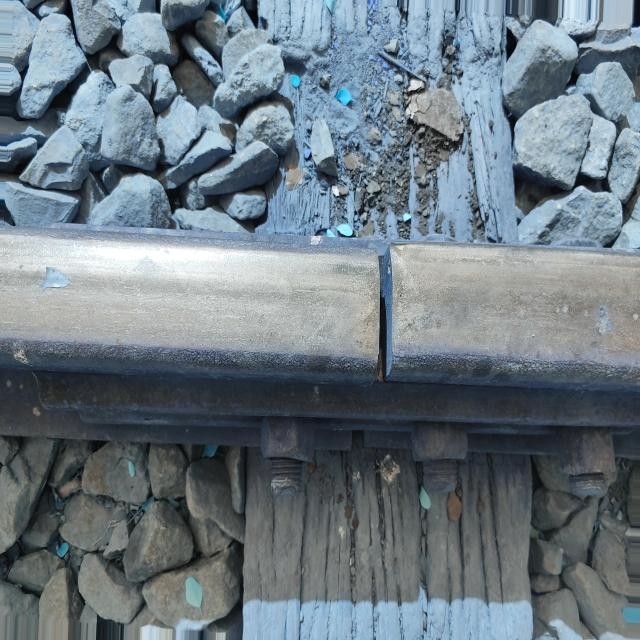crack: (346, 229, 422, 397)
